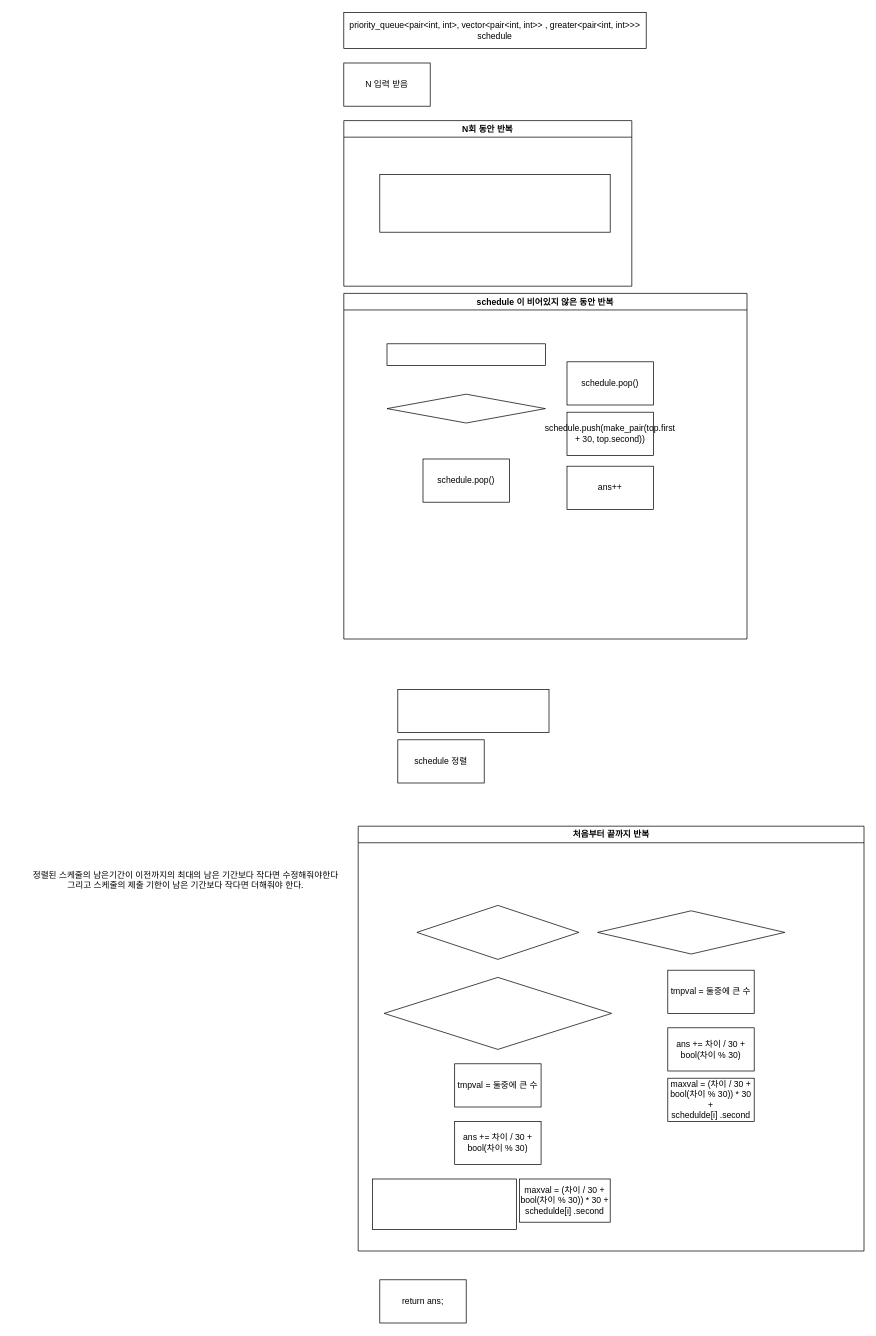
Some shapes in this 876 by 1336 pixel diagram are drawn without their labels. Here are the shapes that lost their labels. From the top down, the centre of each, then its label:
At pixel 494 203: "schedule.push(make_pair(a, b ))".
At pixel 465 354: "pair<int., int> top = schedule.top()".
At pixel 465 408: "top.first가 top.second 보다 같거나 큰가".
At pixel 473 711: "pair<int, int> 100000 schedule".
At pixel 497 932: "maxDuration 과 schedulde[i] .first 이 같은가?".
At pixel 691 932: "schedulde[i] .first // 기간 // 이 maxVal보다 같거나 작은가?".
At pixel 497 1013: "i번째 스케줄의 남은기간 // 이 prevMaxVal보다 작은가? 혹은 i의 남은 기간이 제출 기한 보다 작은가?".
At pixel 444 1203: "prevMaxval = maxVal prevMaxDuration = maxDuration".
